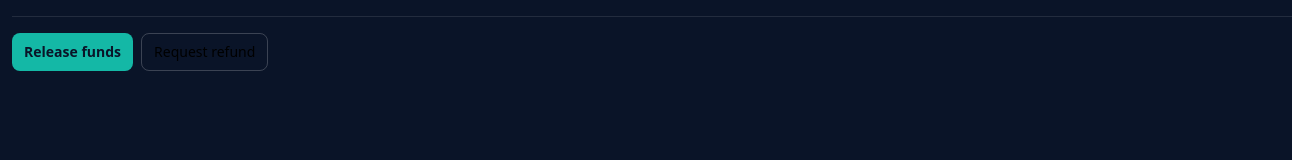
blocks repeated submissions while processing and allows retry after an error
Later steps or results of the test are not shown.
Click the button "Release funds".
click(72, 52)  # box [12,33,133,71]
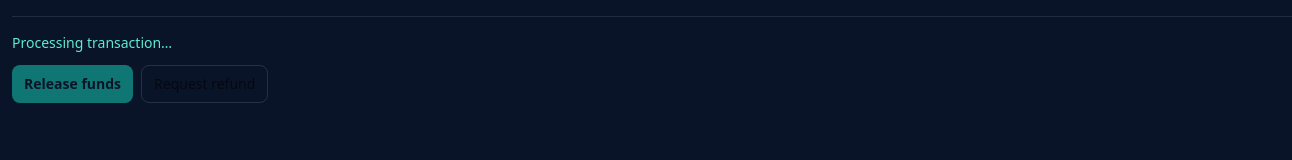
Click the button "Release funds".
click(72, 84)  # box [12,65,133,103]
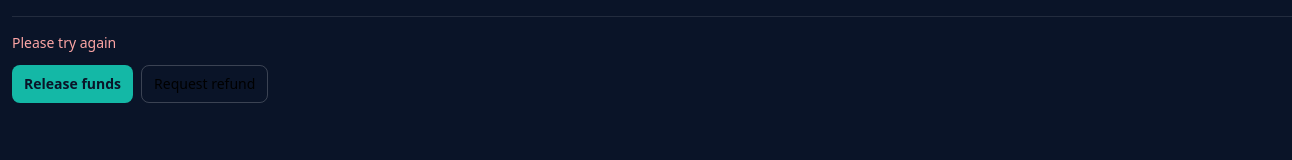
Expected: the message reads "Please try again", [12,33,116,52]
Expected: the button "Release funds" is enabled, [12,65,133,103]
